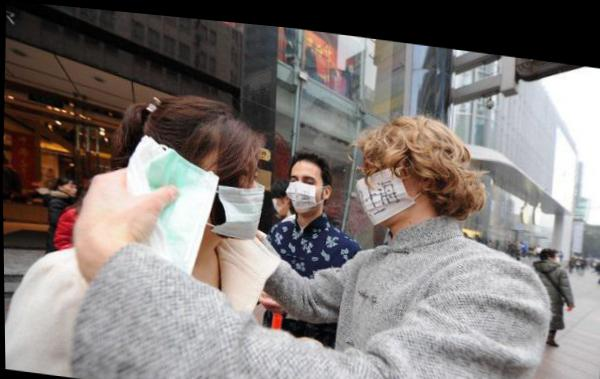NONE: (66, 184, 77, 197)
OK: (201, 147, 268, 235), (285, 164, 328, 209)
WRONG: (356, 145, 432, 222)
